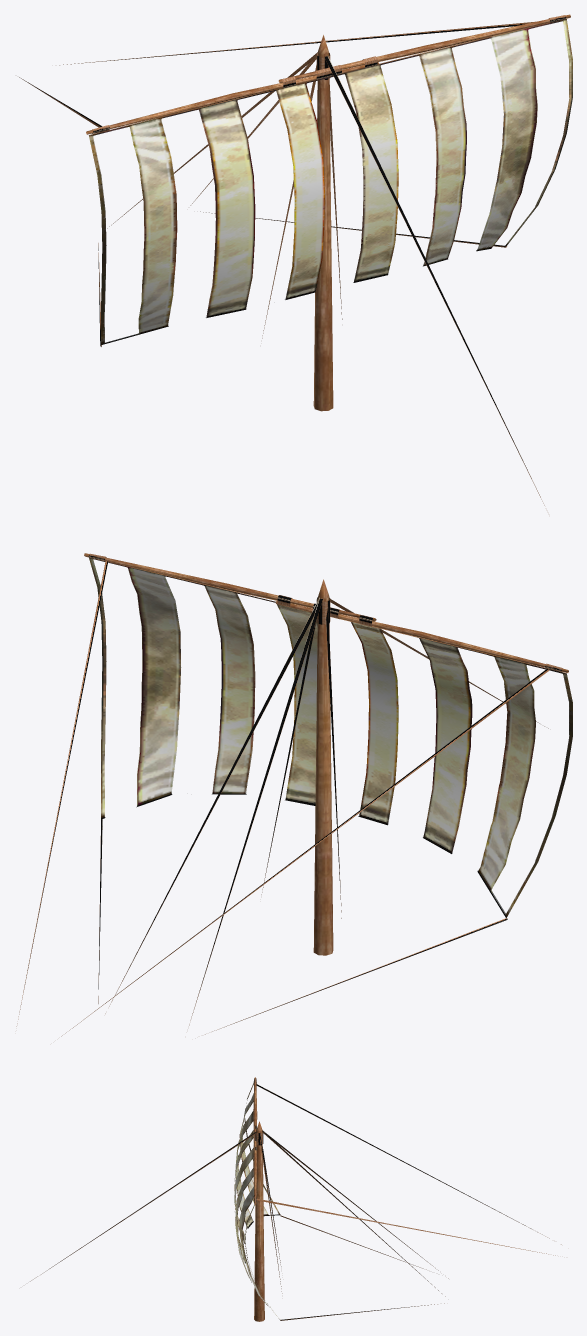
The model's file is pers_tri_mast.dae.
The picture shows the model from 3 angles, top to bottom: view 1: azimuth 30°, elevation 25°; view 2: azimuth 150°, elevation 25°; view 3: azimuth 270°, elevation 25°; orthographic projection. The views are drawn at different scales.
Parts seen in each view (by area): view 1: Mast_000; view 2: Mast_000; view 3: Mast_000.
Part boxes in pixels (x1=…): Mast_000: x1=19, y1=14, x2=572, y2=505; Mast_000: x1=16, y1=553, x2=572, y2=1036; Mast_000: x1=30, y1=1077, x2=561, y2=1321.
Size of the model in its own units: 22.33 by 41.95 by 16.45.
